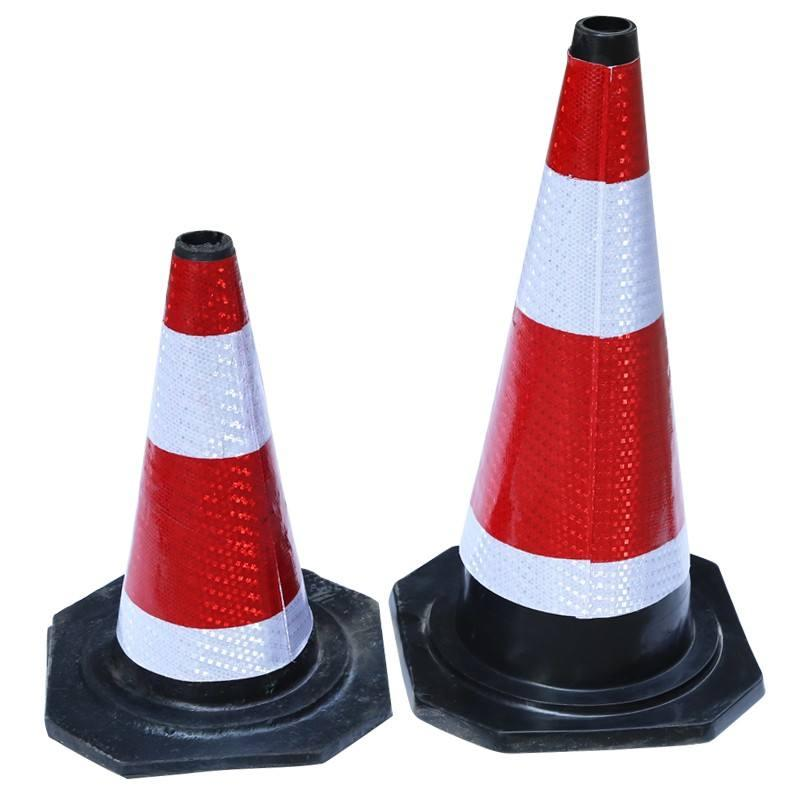sign: (393, 1, 776, 763), (47, 222, 390, 769)
